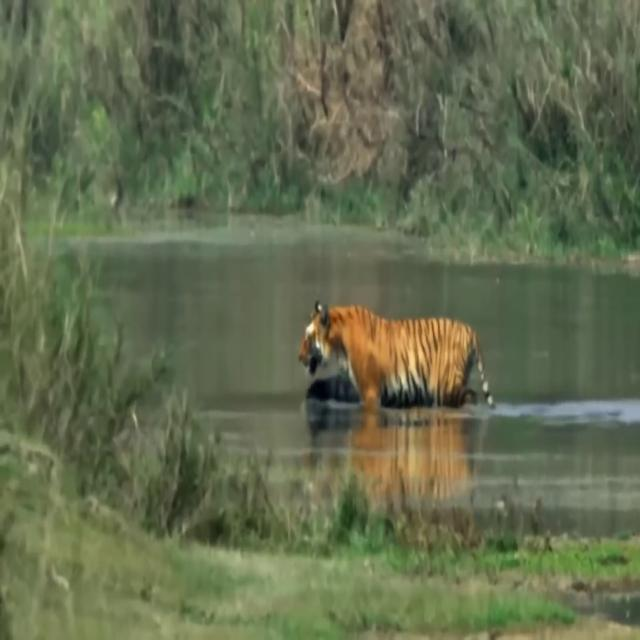tiger: (298, 299, 496, 426)
